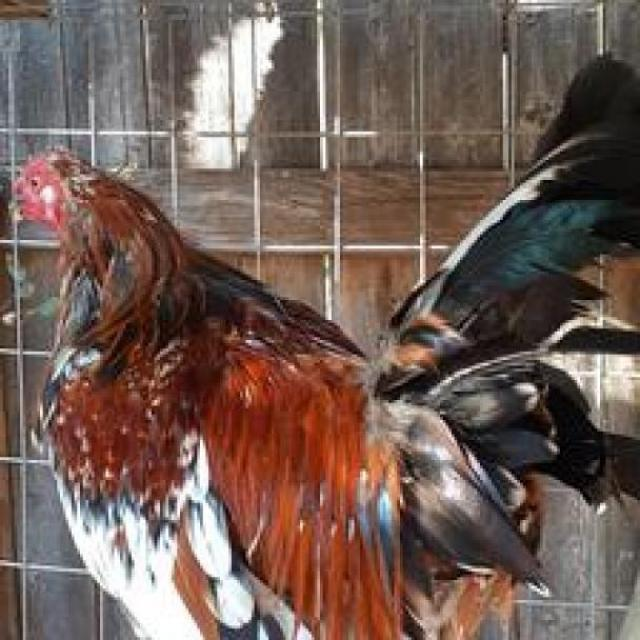Chicken: (18, 124, 602, 640)
